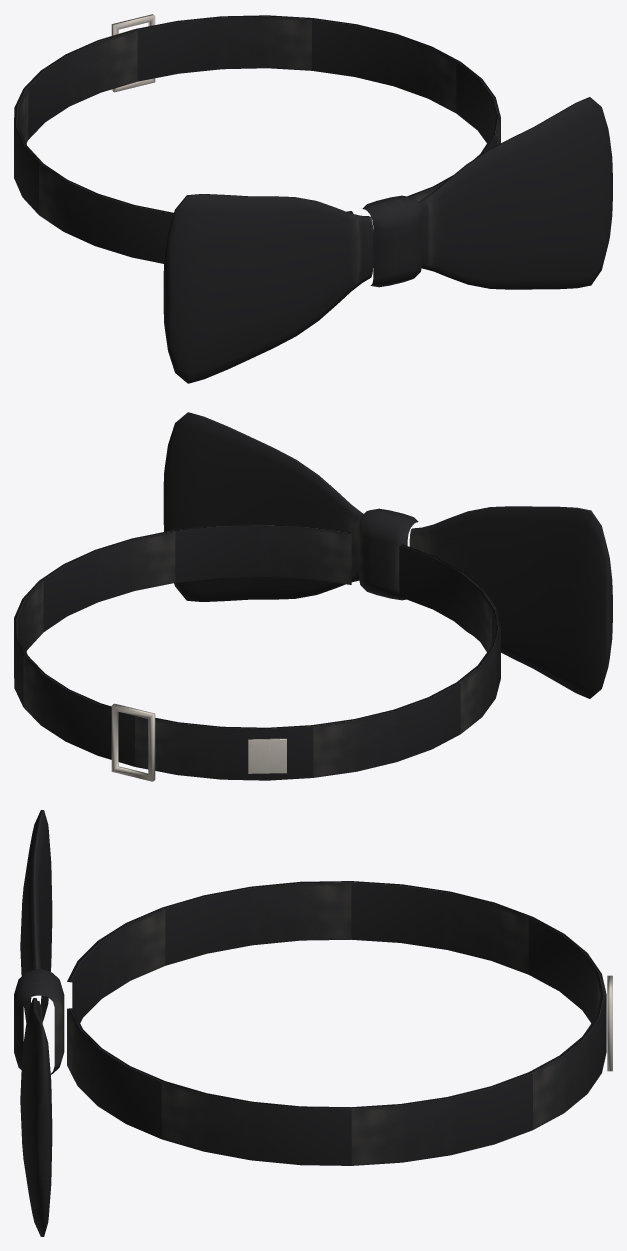
The model's file is bow_tie.glb.
3 views of the same model, one above another, from view 1: azimuth 30°, elevation 25°; view 2: azimuth 150°, elevation 25°; view 3: azimuth 270°, elevation 25° (orthographic). The views are drawn at different scales.
Visible parts, largest first — view 1: bow_tie; view 2: bow_tie; view 3: bow_tie.
Boxes of the visible parts, box(x1,y1,x2,y2) form: bow_tie: box(14, 14, 612, 383); bow_tie: box(14, 412, 612, 781); bow_tie: box(14, 810, 612, 1236).
Size of the model in its own units: 0.1192 by 0.048 by 0.1252.
Materials: 1 (1 with a texture image).
